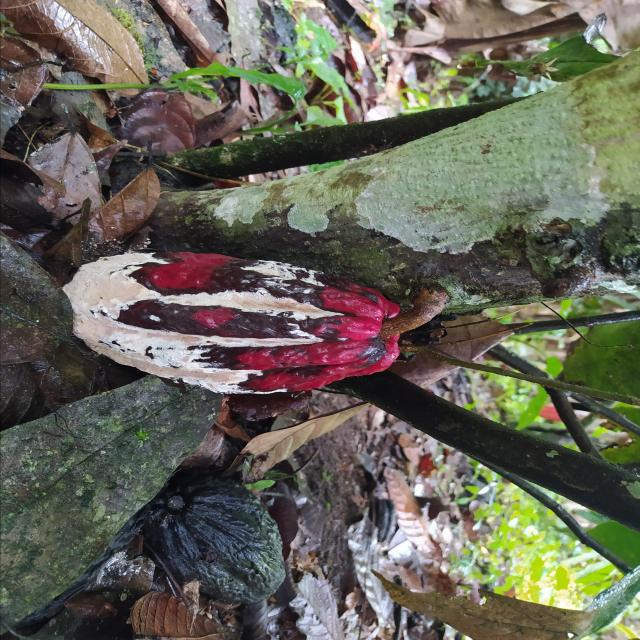Monilia: (63, 253, 400, 396)
